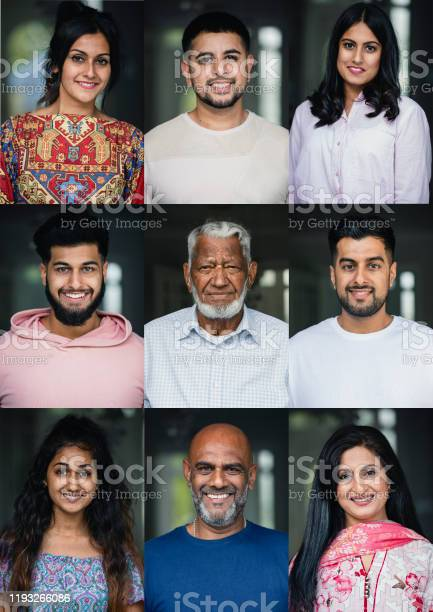men: (173, 217, 276, 336), (174, 412, 267, 537), (170, 7, 268, 123), (315, 218, 408, 330), (28, 220, 120, 333)
women: (309, 421, 417, 542), (28, 418, 124, 536), (315, 11, 408, 124), (37, 12, 124, 127)
